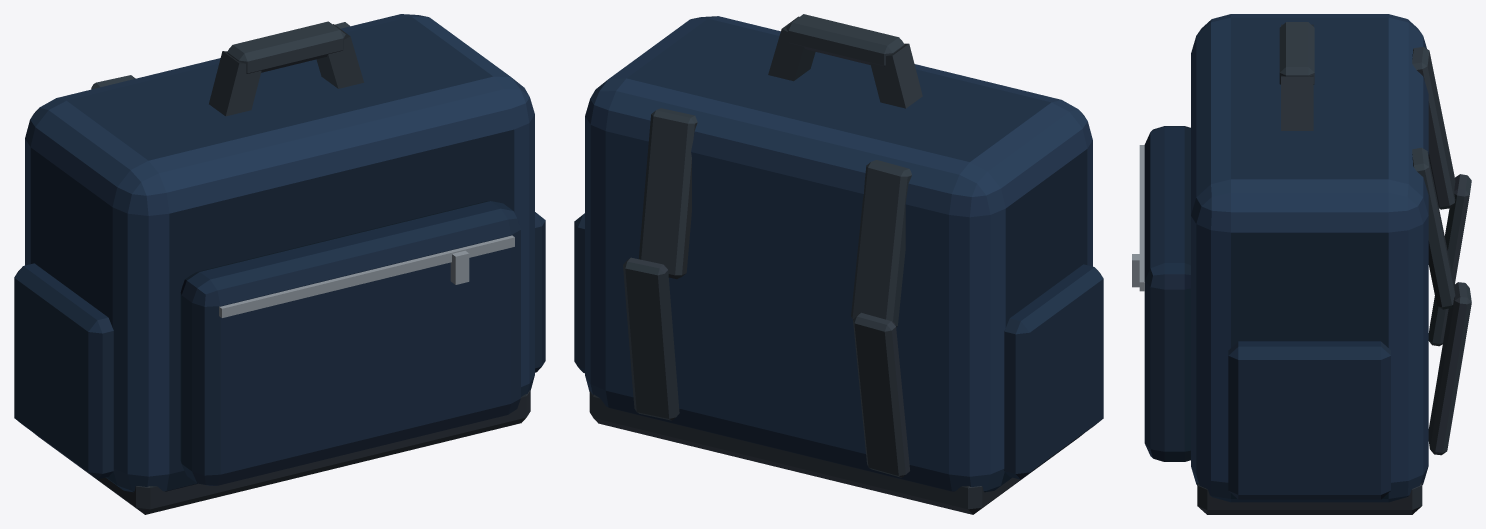
The model's file is prop_school_backpack.glb.
3 renders of one model, left to right at view 1: azimuth 30°, elevation 25°; view 2: azimuth 150°, elevation 25°; view 3: azimuth 270°, elevation 25°, orthographic. The views are drawn at different scales.
Visible parts, largest first — view 1: prop_school_backpack; view 2: prop_school_backpack; view 3: prop_school_backpack.
Boxes of the visible parts, box(x1,y1,x2,y2) form: prop_school_backpack: box(14, 14, 545, 514); prop_school_backpack: box(574, 14, 1103, 514); prop_school_backpack: box(1132, 14, 1471, 514).
Bounding box in the file's own units: 0.406 × 0.337 × 0.2716.
